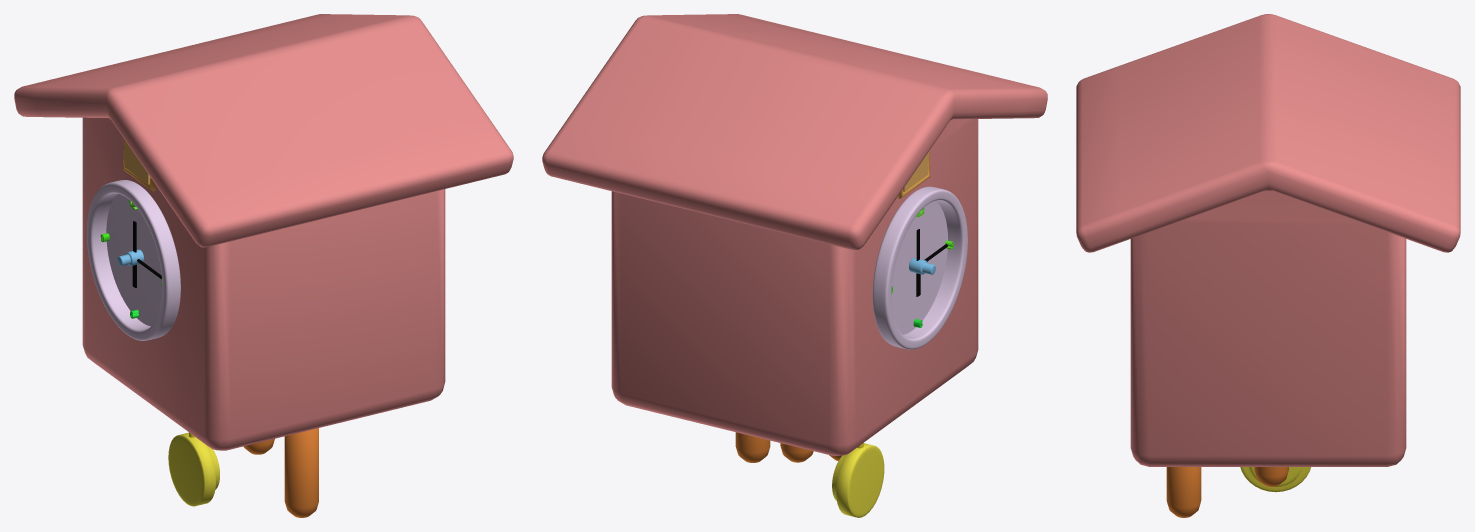
3 views of the same model, side by side, from view 1: azimuth 30°, elevation 25°; view 2: azimuth 150°, elevation 25°; view 3: azimuth 270°, elevation 25° (orthographic).
Parts seen in each view (by area): view 1: Clock roof, Clock body, Clock frame, Clock pendulum, Clock decoration.001; view 2: Clock roof, Clock body, Clock frame, Clock pendulum, Clock decoration.004; view 3: Clock body, Clock roof, Clock decoration.001, Clock pendulum, Clock decoration.003.
Boxes of the visible parts, left/top/right/bottom form: Clock roof: left=14, top=14, right=513, bottom=247; Clock body: left=82, top=117, right=445, bottom=450; Clock frame: left=87, top=180, right=180, bottom=340; Clock pendulum: left=168, top=432, right=219, bottom=506; Clock decoration.001: left=284, top=428, right=318, bottom=517; Clock roof: left=542, top=14, right=1047, bottom=249; Clock body: left=611, top=119, right=978, bottom=455; Clock frame: left=872, top=186, right=967, bottom=349; Clock pendulum: left=832, top=443, right=884, bottom=517; Clock decoration.004: left=735, top=432, right=770, bottom=462; Clock body: left=1130, top=191, right=1406, bottom=466; Clock roof: left=1076, top=14, right=1460, bottom=252; Clock decoration.001: left=1166, top=467, right=1201, bottom=517; Clock pendulum: left=1240, top=467, right=1310, bottom=492; Clock decoration.003: left=1254, top=467, right=1288, bottom=486.
Size of the model in its own units: 2.64 by 3.48 by 2.79.
